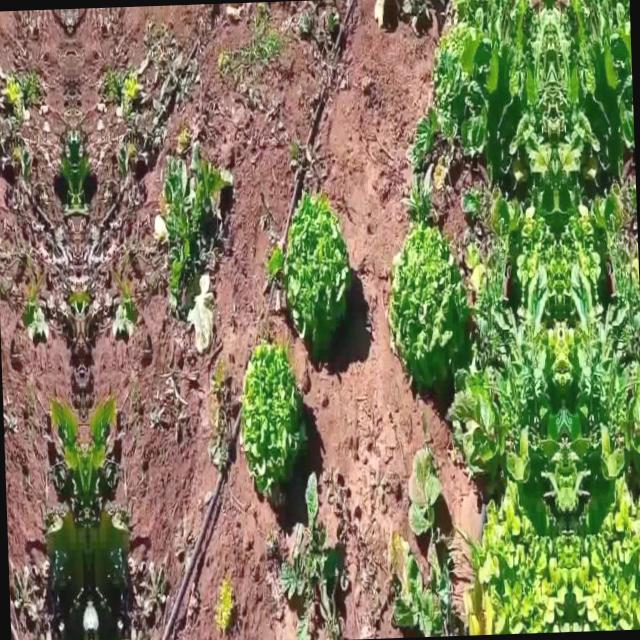healthy: (466, 486, 572, 634), (384, 218, 472, 390), (274, 190, 356, 352), (565, 482, 640, 630), (240, 339, 305, 508), (434, 20, 492, 62), (608, 15, 630, 56)
